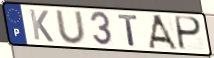3: (88, 10, 114, 48)
A: (147, 14, 180, 52)
K: (28, 8, 56, 44)
P: (175, 15, 204, 52)
T: (117, 13, 140, 48)
U: (54, 10, 88, 45)
